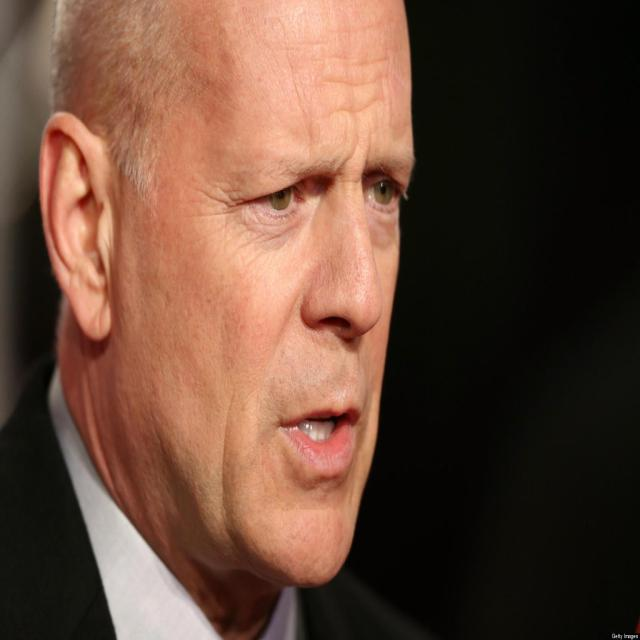no-earmuff: (38, 109, 112, 341)
